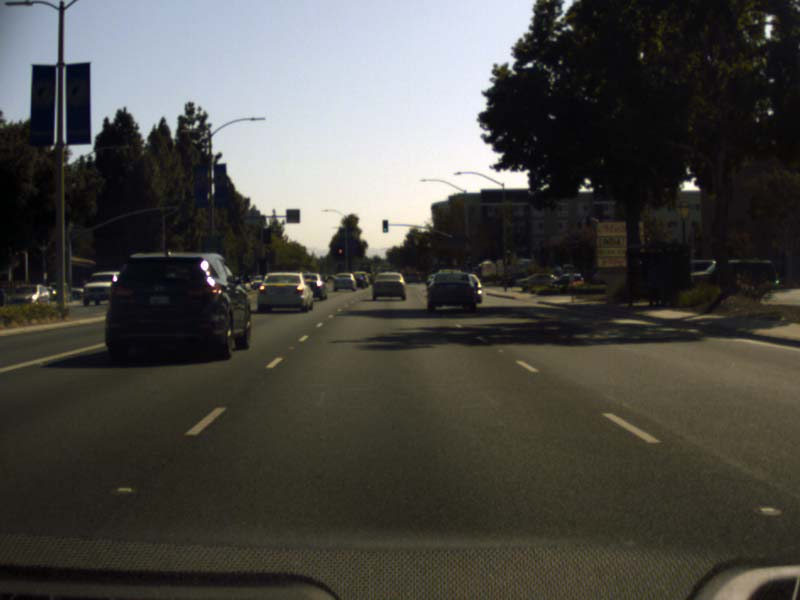Green: (382, 219, 388, 232), (505, 248, 510, 255), (467, 251, 470, 259)
Red: (337, 246, 343, 259)
